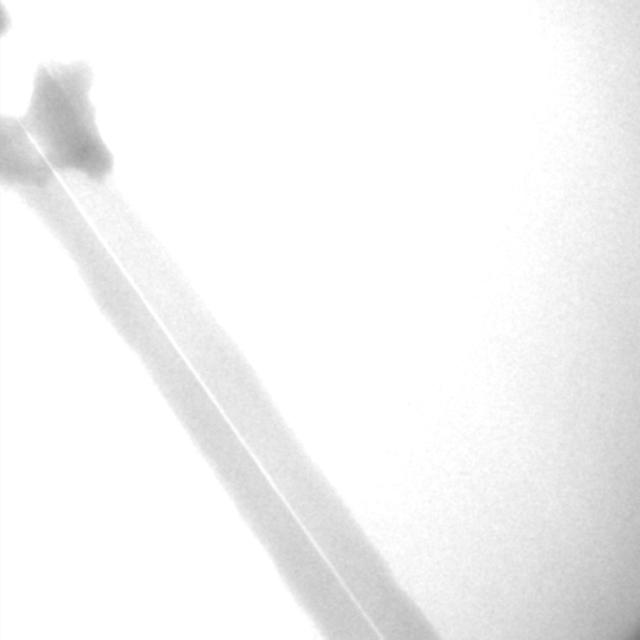broken arc: (20, 118, 383, 640)
